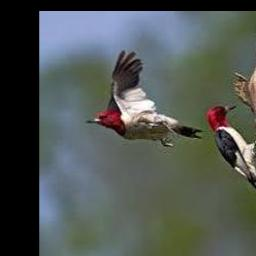Woodpecker: (86, 50, 203, 147), (205, 104, 256, 202)
